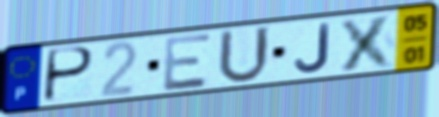2: (98, 40, 142, 101)
E: (162, 30, 214, 94)
J: (292, 21, 332, 75)
P: (40, 45, 97, 105)
U: (215, 24, 272, 87)
X: (337, 12, 399, 74)
